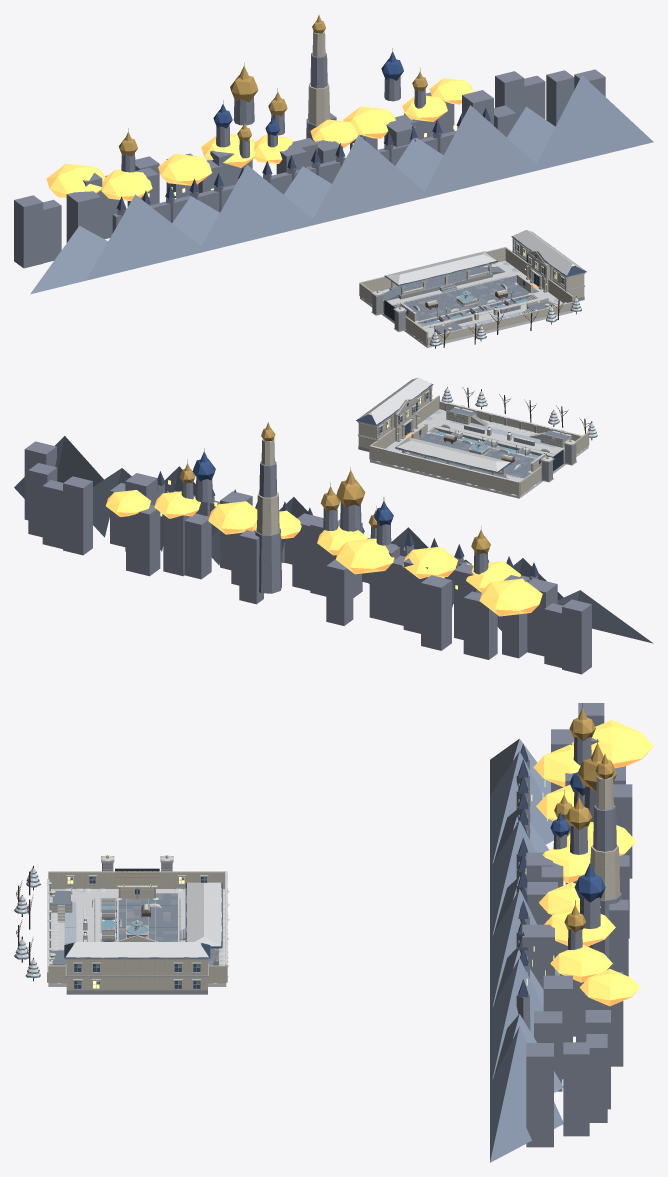
The model's file is frostcourt_visual.glb.
3 renders of one model, top to bottom at view 1: azimuth 30°, elevation 25°; view 2: azimuth 150°, elevation 25°; view 3: azimuth 270°, elevation 25°, orthographic. The views are drawn at different scales.
Parts seen in each view (by area): view 1: DETAIL_chapter_craft, BATCH_court, VIS_court_floor_south, VIS_court_floor; view 2: DETAIL_chapter_craft, BATCH_court, VIS_court_floor_south, VIS_court_floor; view 3: DETAIL_chapter_craft, BATCH_court, VIS_court_floor_south, VIS_court_floor.
Part boxes in pixels (x1=…): DETAIL_chapter_craft: x1=14, y1=14, x2=653, y2=348; BATCH_court: x1=359, y1=247, x2=573, y2=345; VIS_court_floor_south: x1=407, y1=295, x2=572, y2=347; VIS_court_floor: x1=360, y1=260, x2=543, y2=323; DETAIL_chapter_craft: x1=14, y1=377, x2=653, y2=674; BATCH_court: x1=369, y1=395, x2=589, y2=495; VIS_court_floor_south: x1=419, y1=409, x2=588, y2=456; VIS_court_floor: x1=370, y1=428, x2=562, y2=498; DETAIL_chapter_craft: x1=14, y1=703, x2=653, y2=1162; BATCH_court: x1=47, y1=871, x2=227, y2=983; VIS_court_floor_south: x1=48, y1=889, x2=101, y2=986; VIS_court_floor: x1=115, y1=889, x2=226, y2=986.
Size of the model in its own units: 257 by 67.8 by 172.
Materials: 42 (18 with a texture image).
